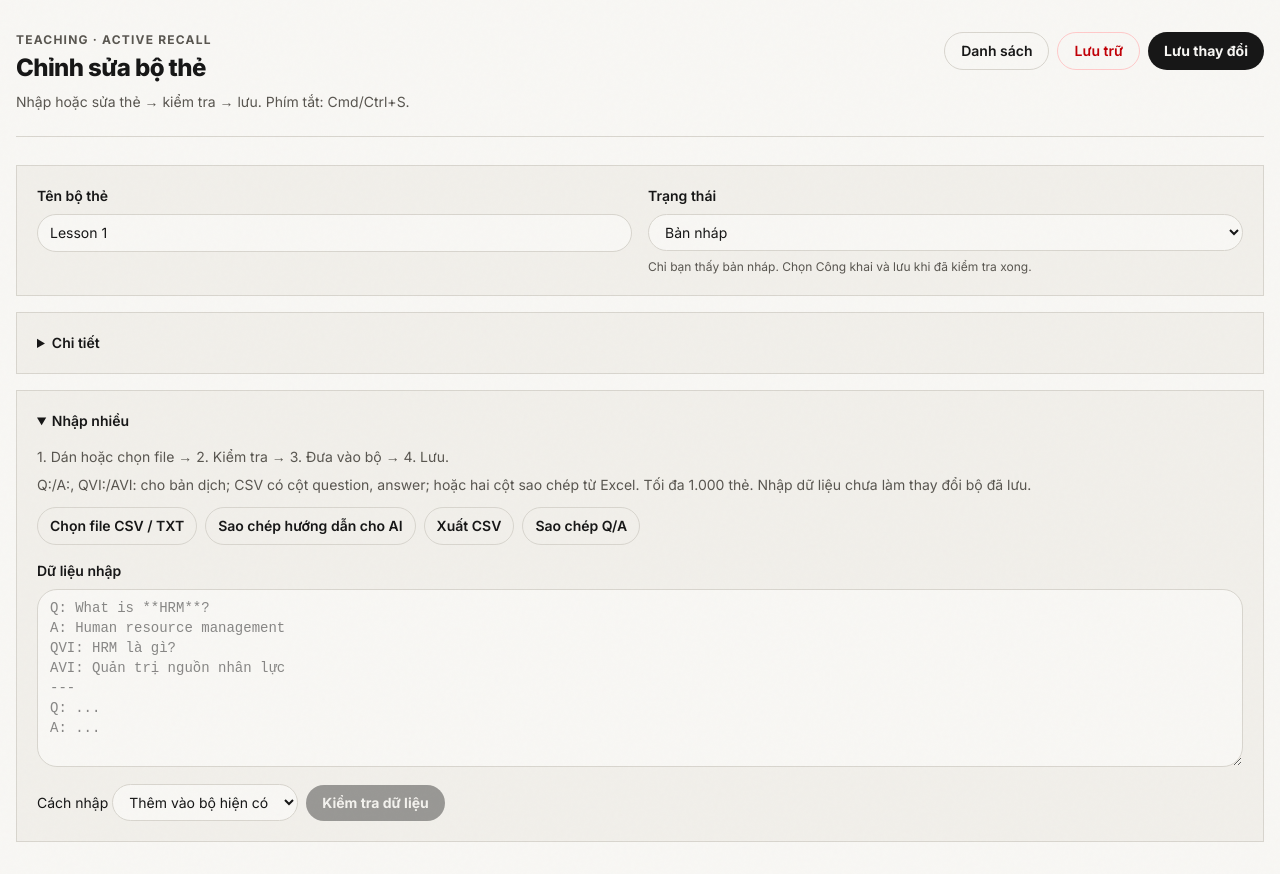
Test: ActiveRecallEditor › does not offer publishing an empty deck
Select "Công khai" in the dropdown labelled "Trạng thái". click: (946, 232)
box: [648,214,1243,251]
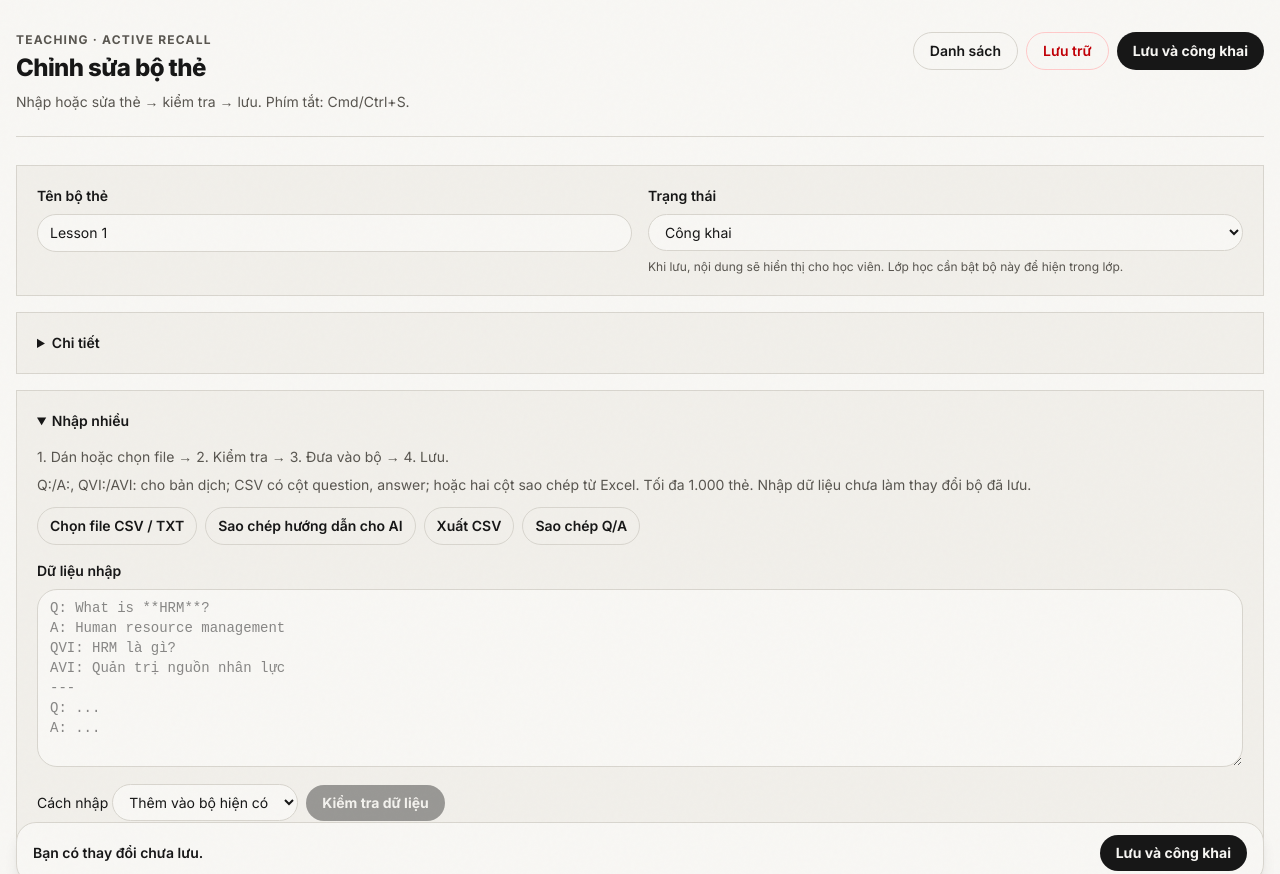
Click the button "Lưu và công khai" in the row of "Danh sách". click: (1190, 51)
box: [1117,32,1264,70]
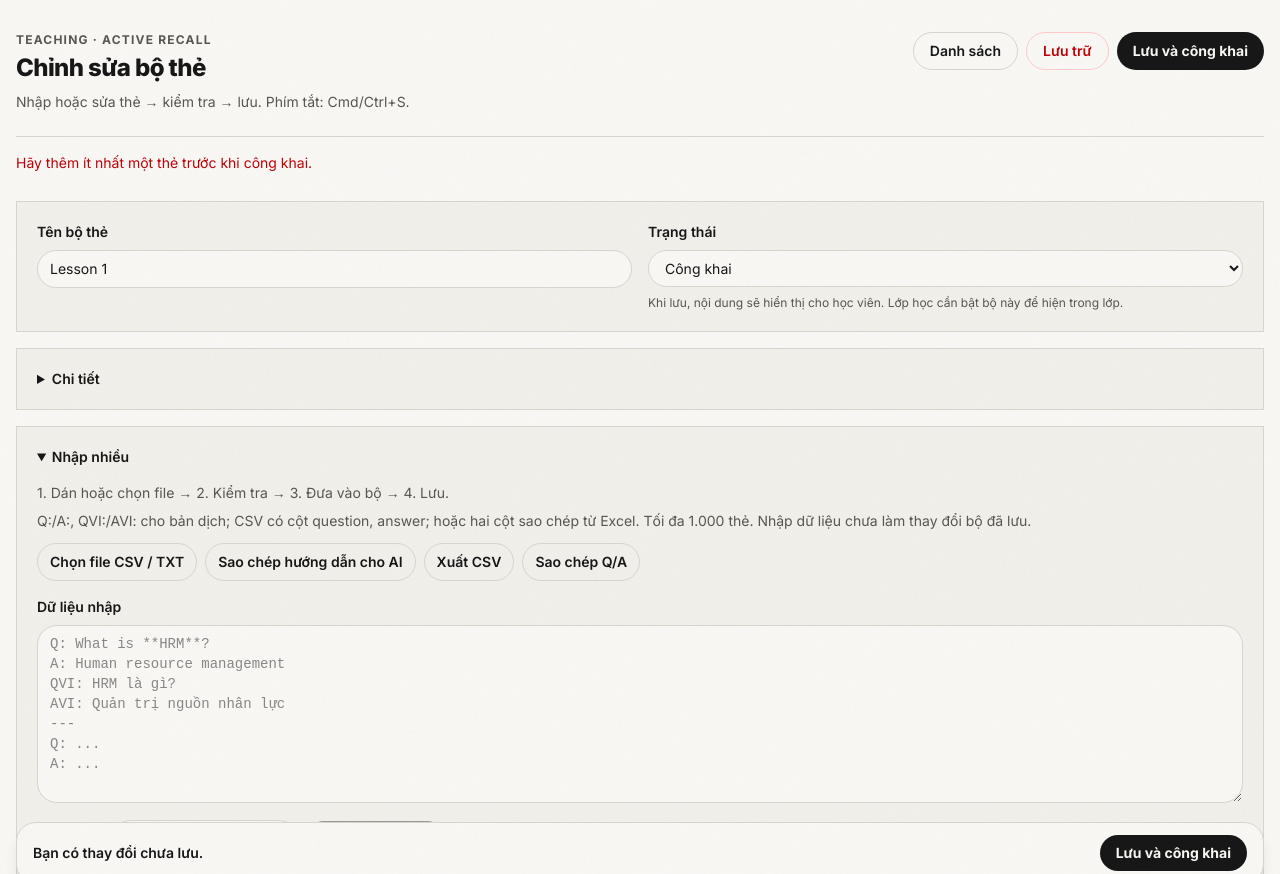
Expected: the message shows "ít nhất một thẻ", [16,154,312,171]
